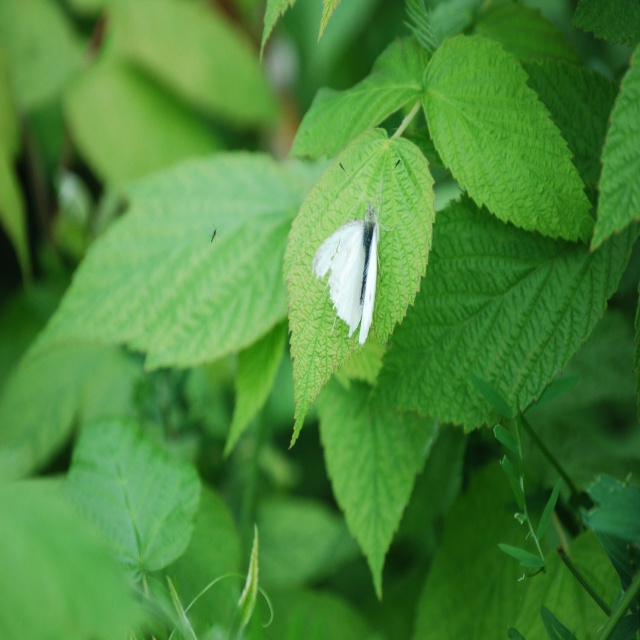Butterfly: (307, 188, 402, 358)
